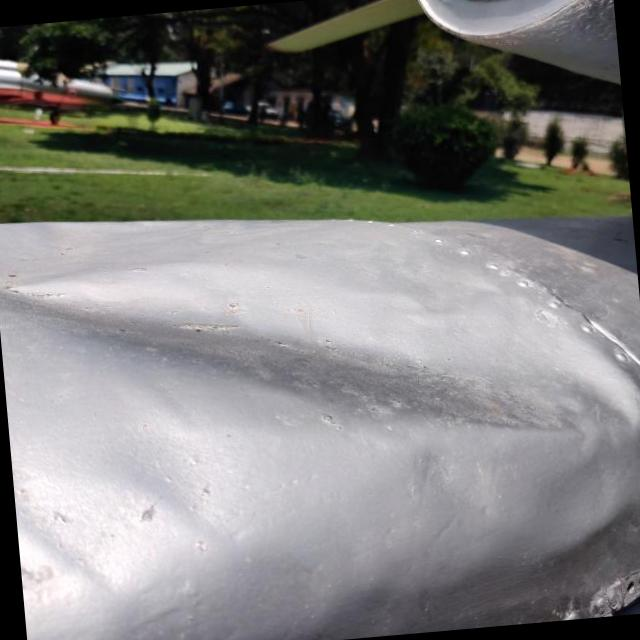Dent: (0, 224, 640, 569), (15, 505, 137, 640)
